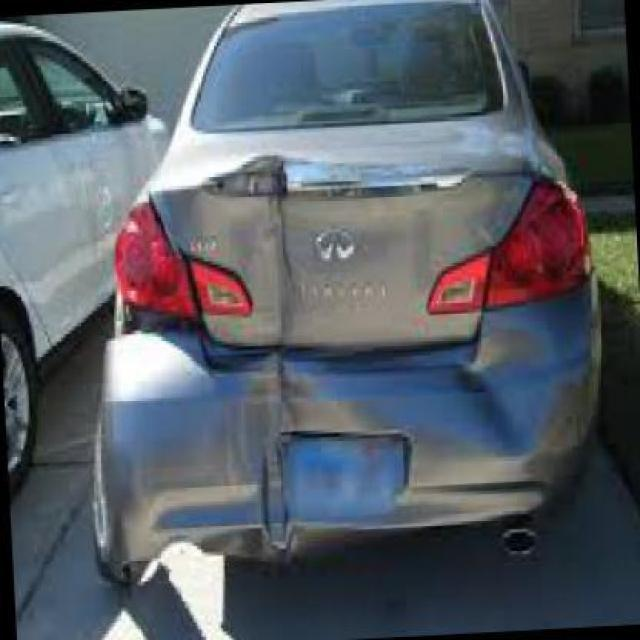dent: (327, 315, 541, 458)
